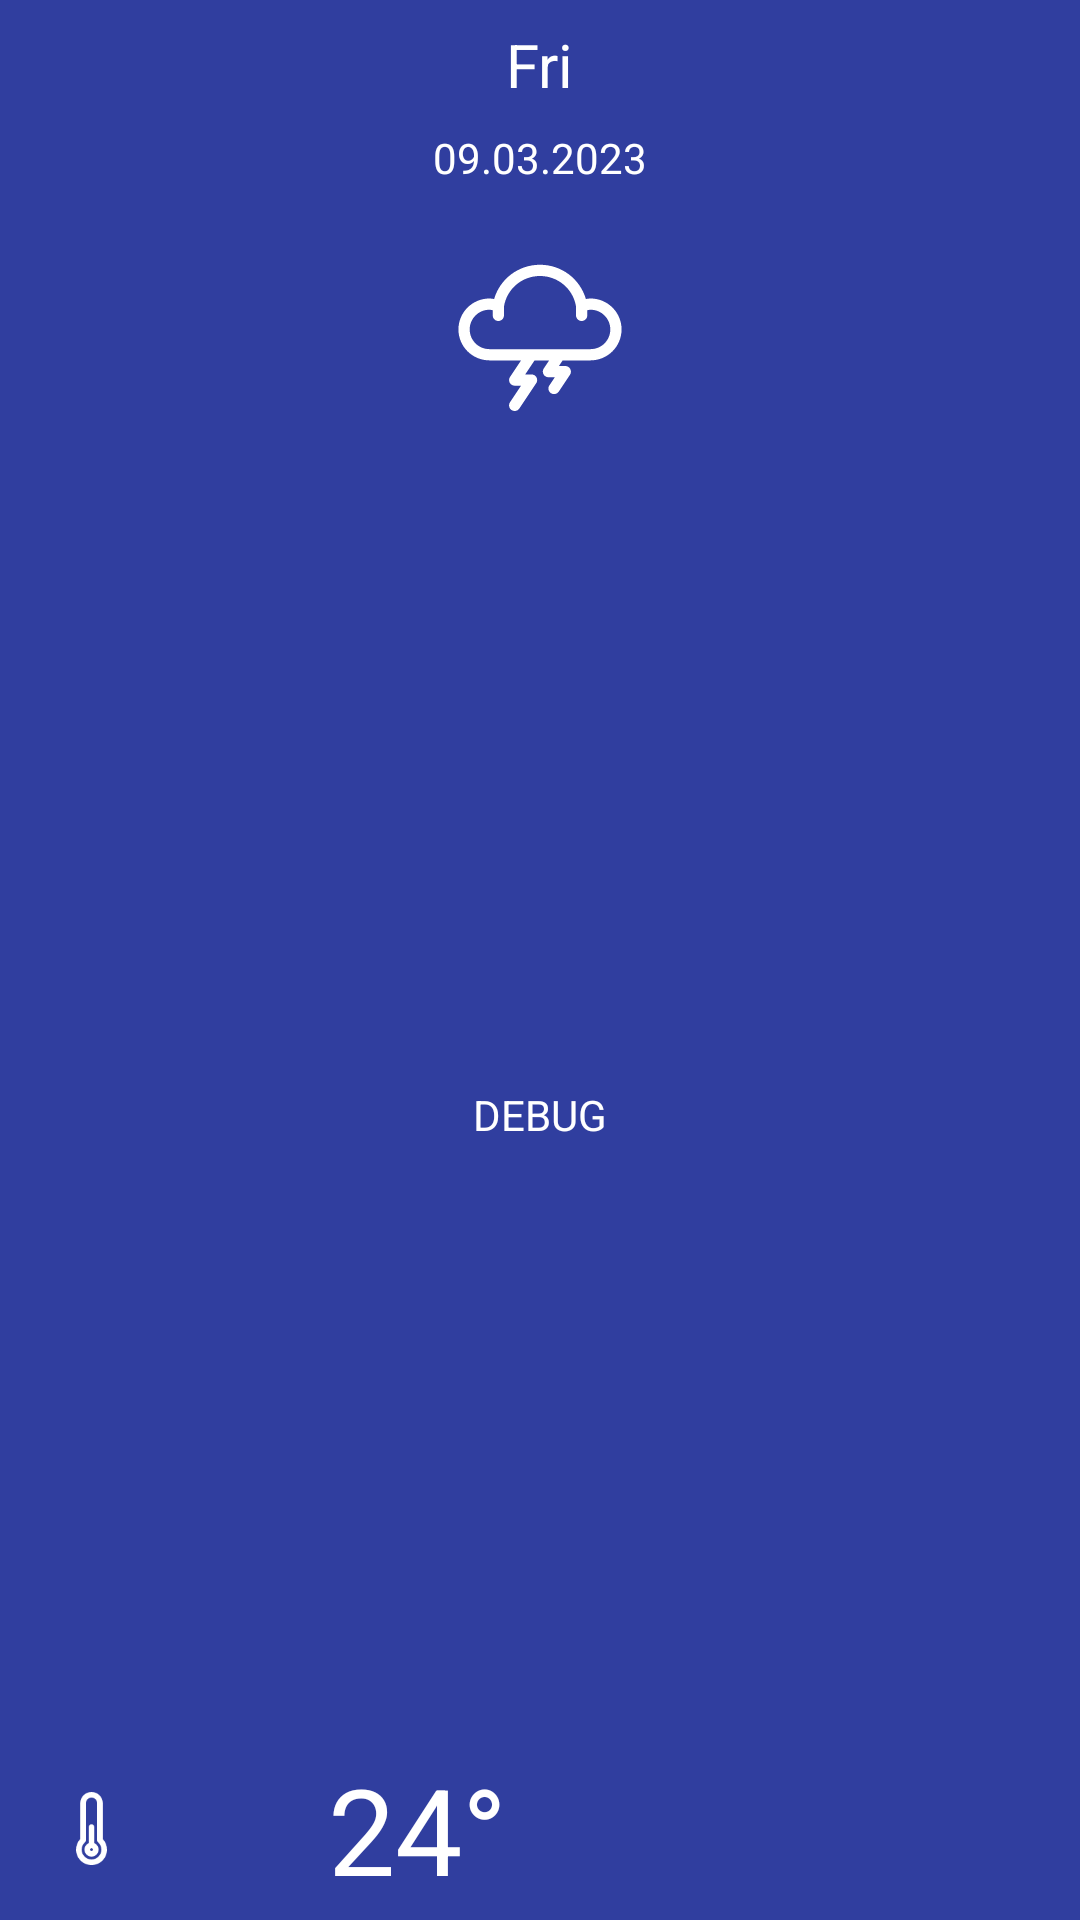

Icons on this 1080px x 1920px Android screen, each with the point to tap as (x=x, y=y):
weather temperature: (x=91, y=1828)
weather thunder: (x=540, y=337)
